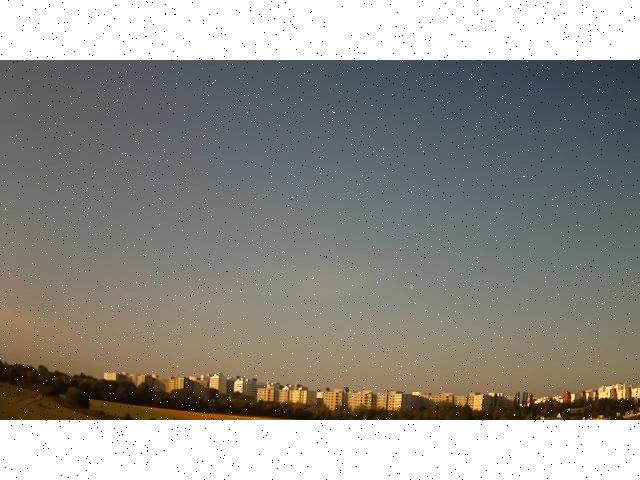Anti-Drone: (407, 280, 425, 298)
